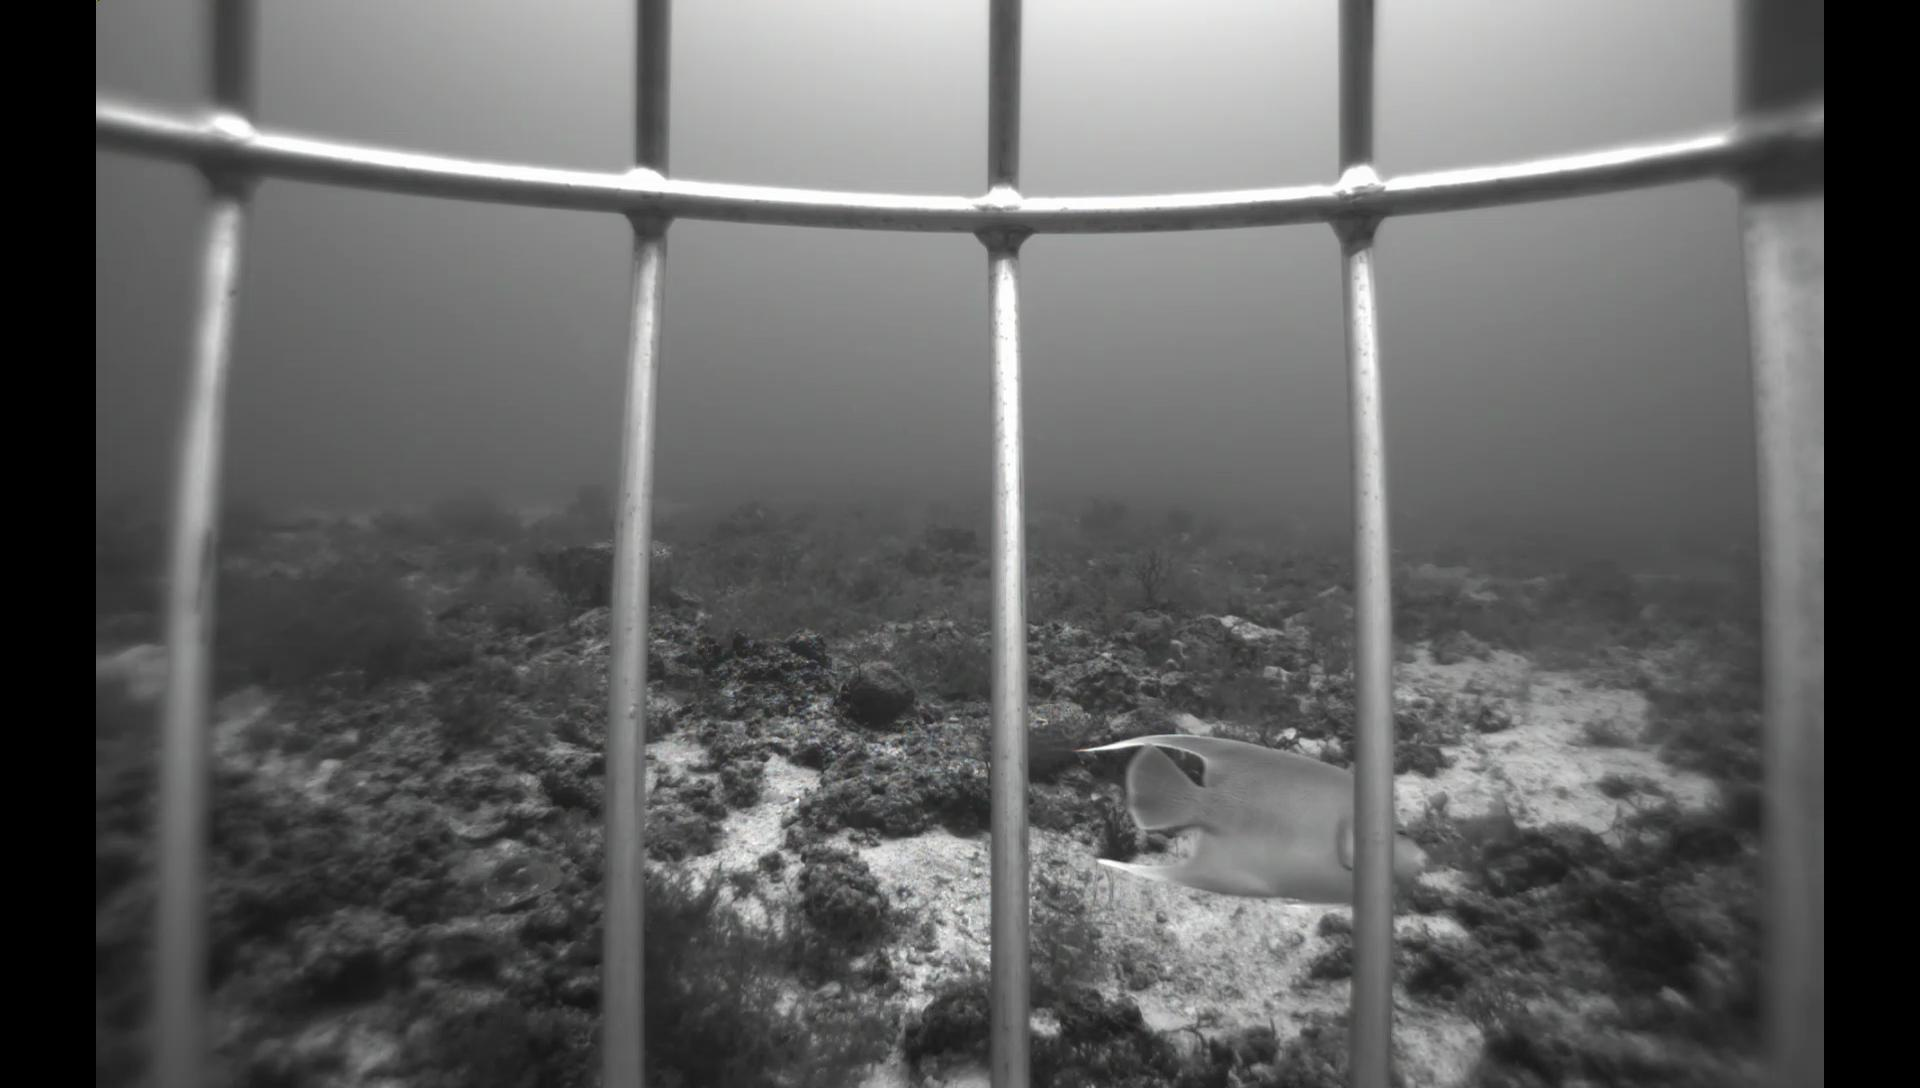HOLACANTHUSBERMUDENSIS-170290102: (1067, 721, 1441, 910), (1724, 537, 1758, 564)
SERRANUSANNULARIS-170024201: (414, 922, 521, 963)
